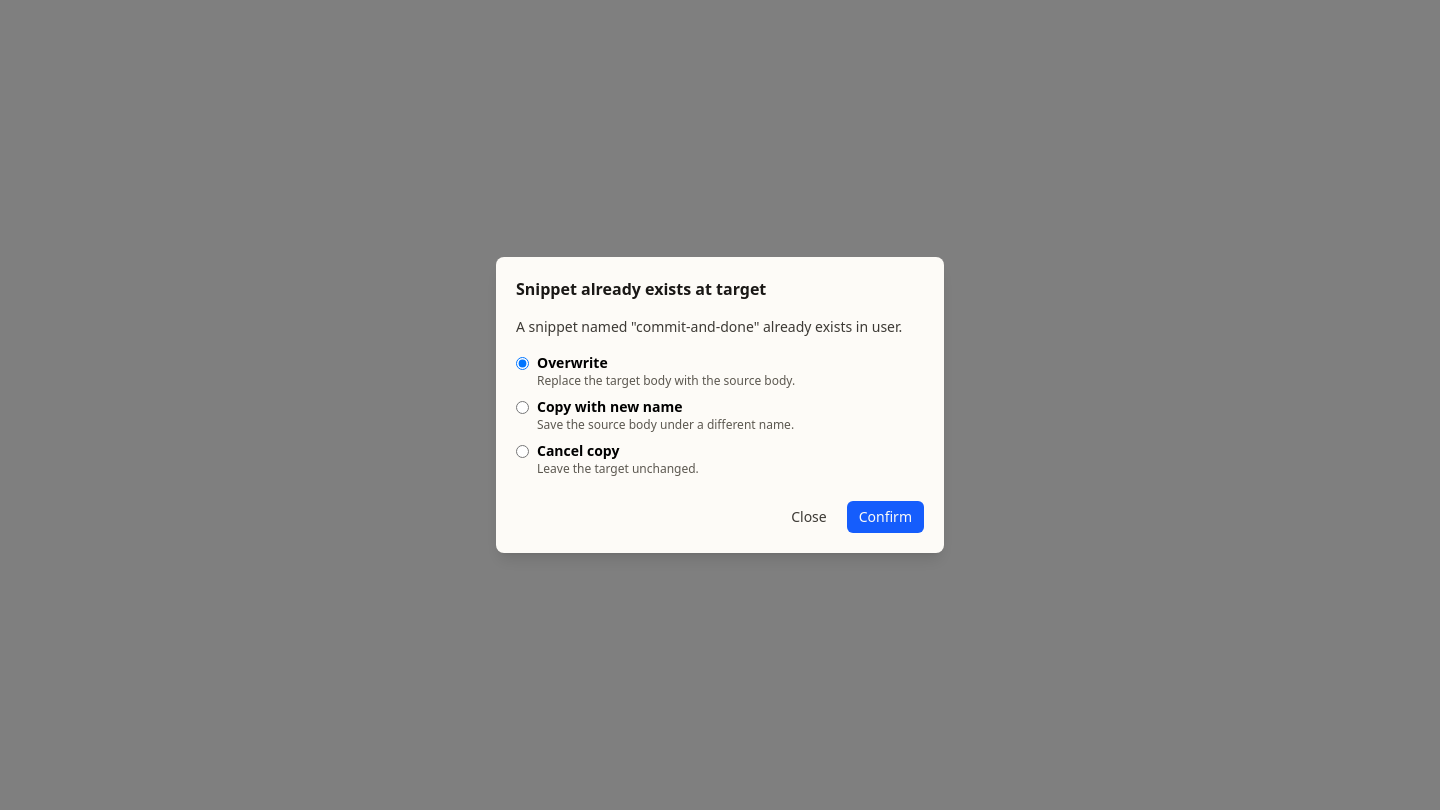
Scenario: SnippetCopyConflictDialog › flags characters outside NAME_RE with the pattern error
Step 1. Click the radio button with test id "snippet-conflict-rename" → [522, 408], box 516,401 -> 529,414
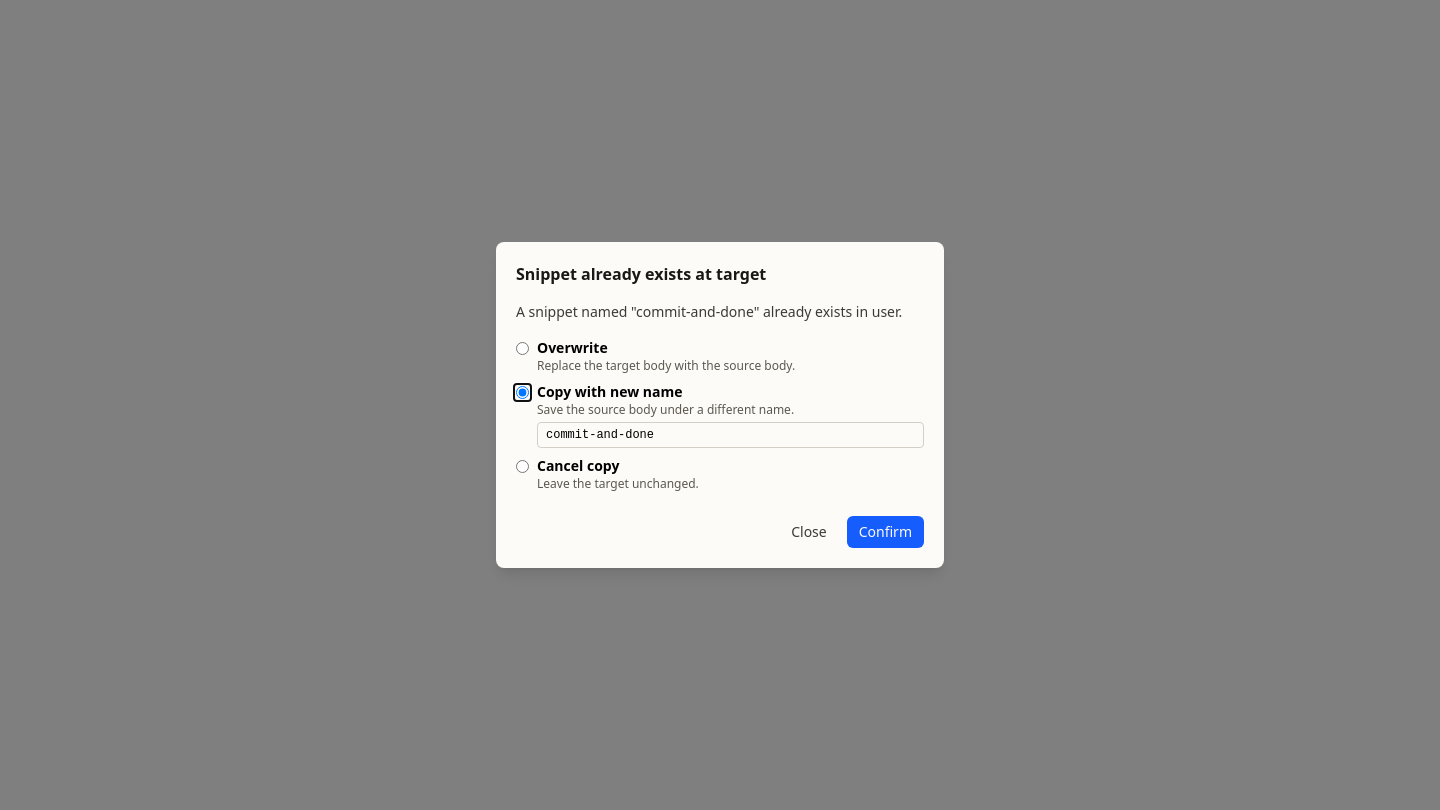
Step 2. Replace the text in the field with test id "snippet-conflict-rename-input" with "has space" → [730, 435], box 537,422 -> 924,448
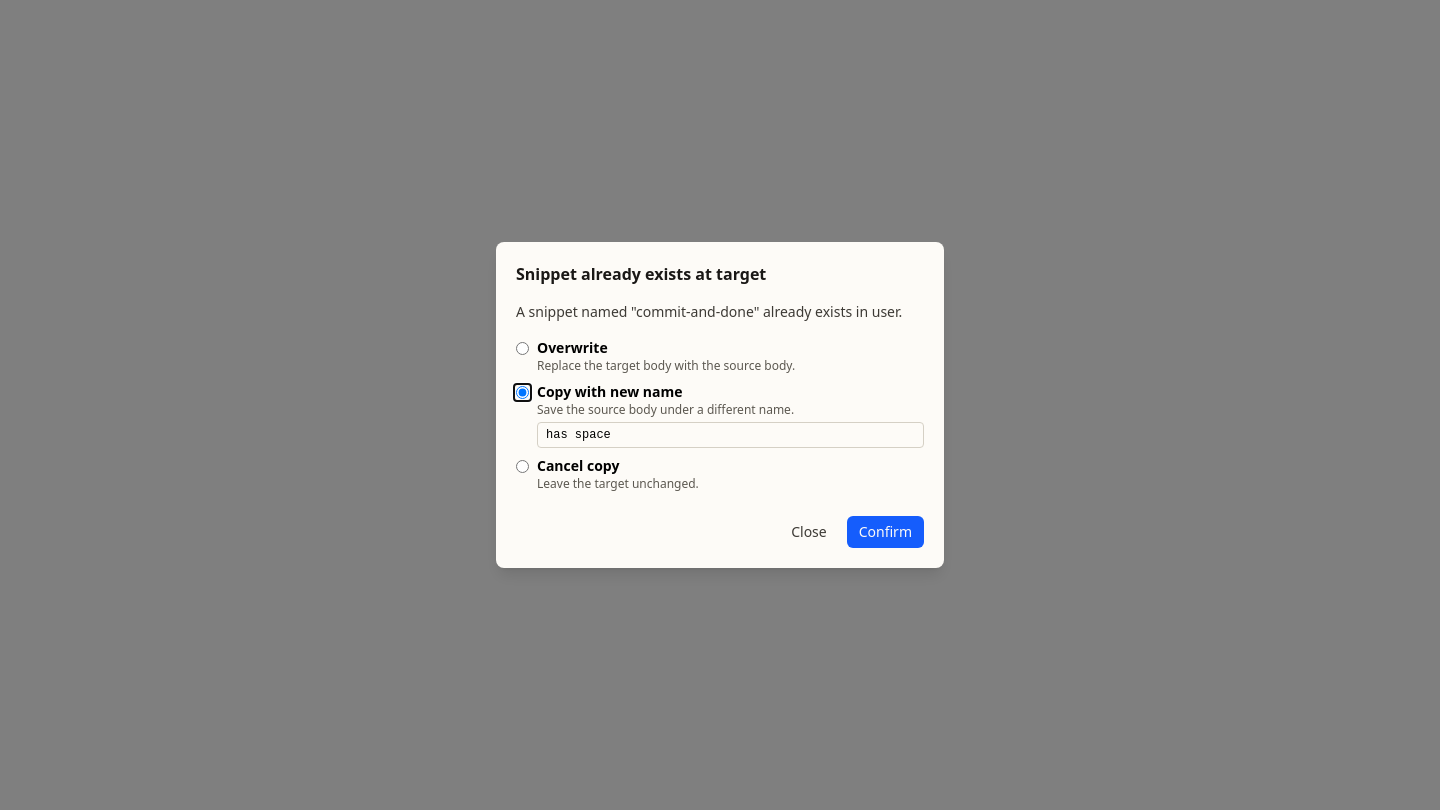
Step 3. Click the button with test id "snippet-conflict-submit" → [885, 532], box 847,516 -> 924,548
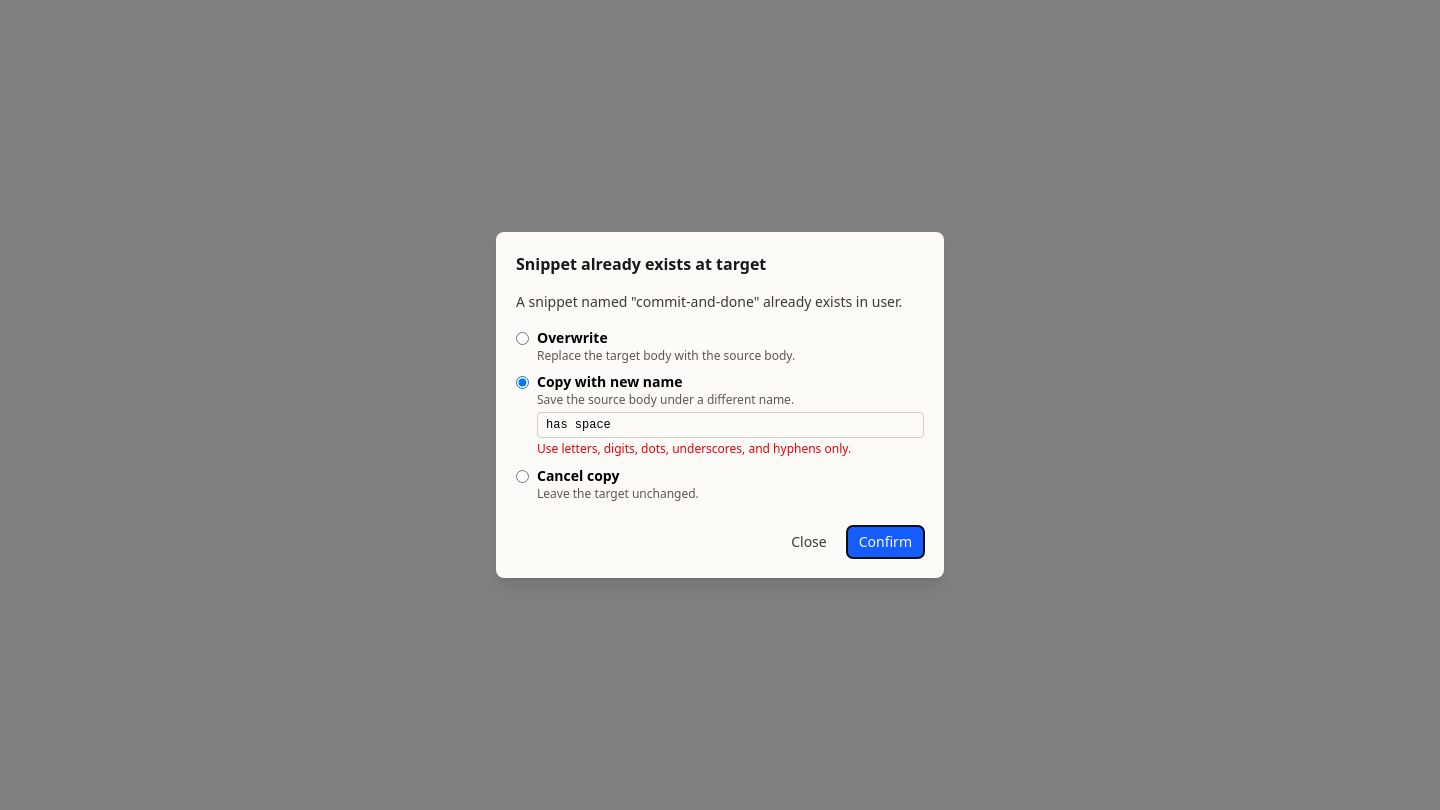
Expected: the text with test id "snippet-conflict-rename-error" shows "letters, digits", 537,440 -> 851,457
